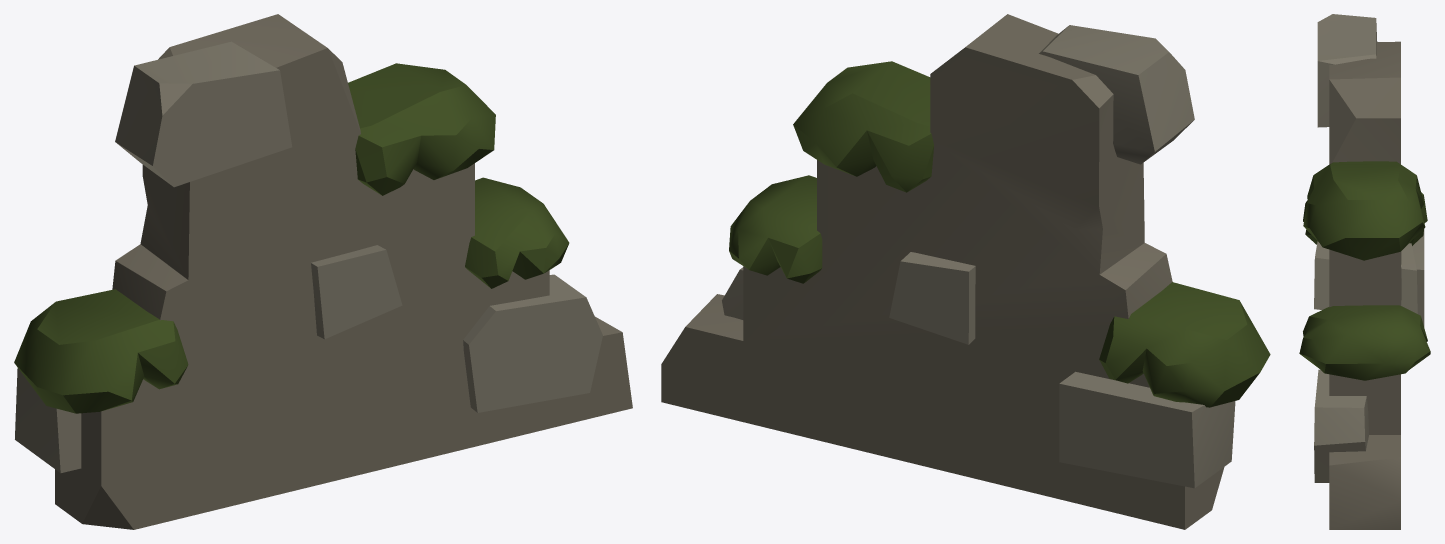
3 renders of one model, left to right at view 1: azimuth 30°, elevation 25°; view 2: azimuth 150°, elevation 25°; view 3: azimuth 270°, elevation 25°, orthographic. The views are drawn at different scales.
Parts seen in each view (by area): view 1: mff_ruins_wall_0; view 2: mff_ruins_wall_0; view 3: mff_ruins_wall_0.
Part boxes in pixels (<box>): mff_ruins_wall_0: <box>14,14,632,529</box>; mff_ruins_wall_0: <box>661,14,1270,529</box>; mff_ruins_wall_0: <box>1299,14,1430,529</box>.
Bounding box in the file's own units: 3.7 × 2.68 × 0.9416.
Materials: 1 (1 with a texture image).
